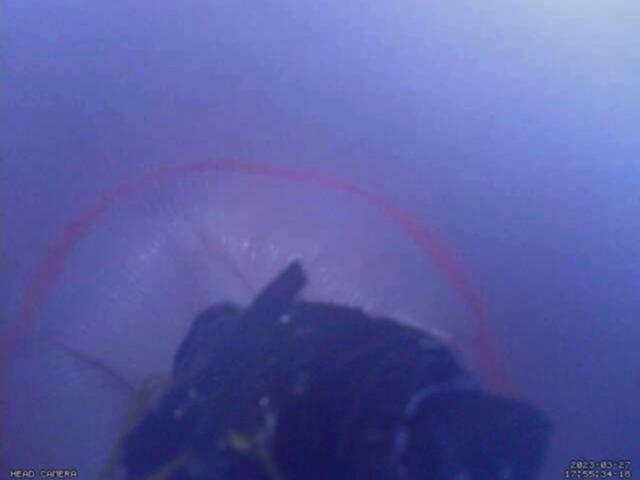head: (0, 158, 515, 480)
